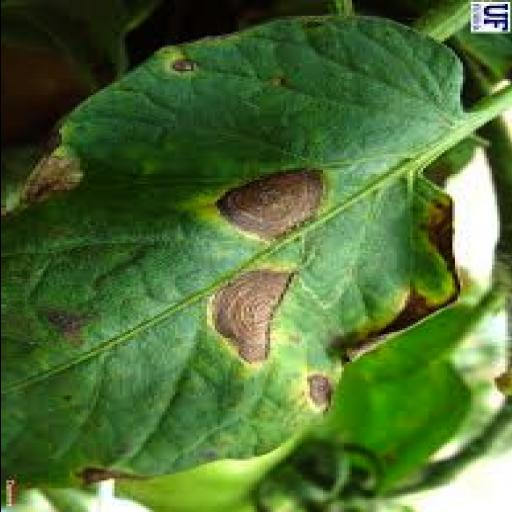disease_tomato: (0, 11, 482, 491)
